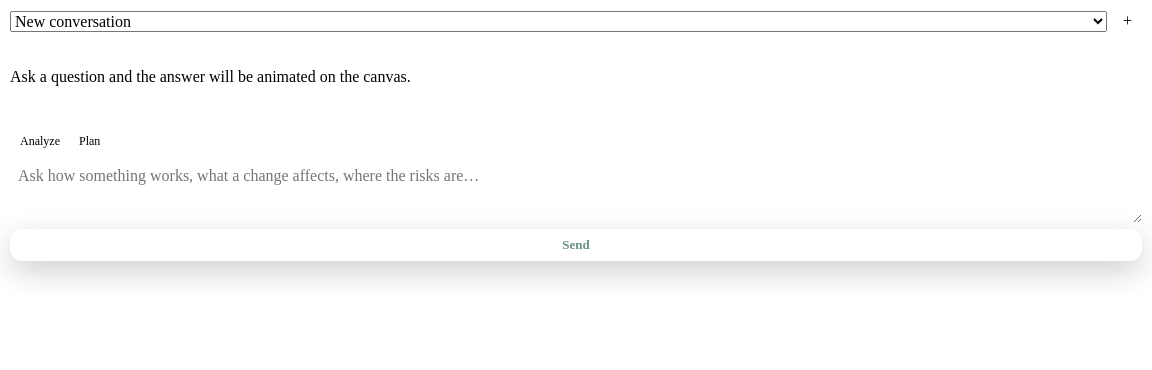
Scenario: ChatPanel › links solutions proposed by the agent
Replace the text in the 2nd text box with test id "chat-input" with "I want order cancellation" at (576, 191), box [10,159,1142,223]
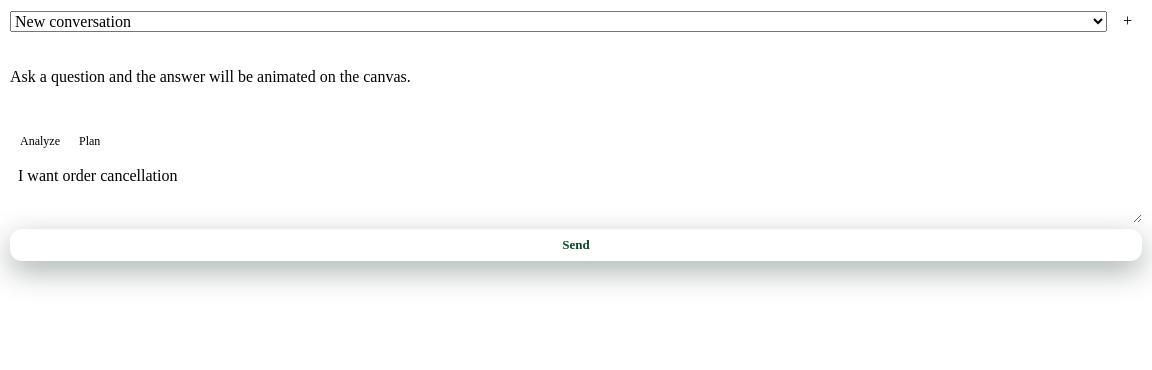
Now the button with test id "chat-send" is enabled
Click the button with test id "chat-send".
click(576, 245)  # box [10,229,1142,261]
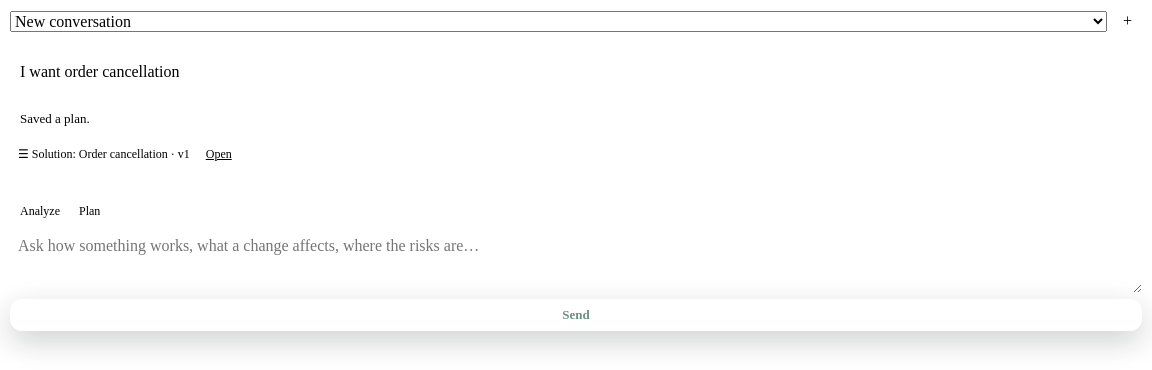
Now the element with test id "chat-solution-sol1" shows "Solution: Order cancellation · v1", box [32,147,190,161]
